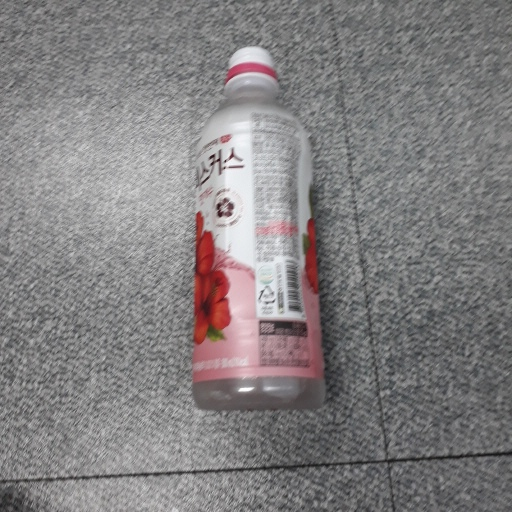Plastic_0: (186, 44, 333, 410)
